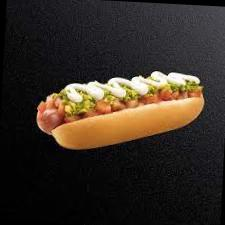Completos: (23, 61, 211, 160)
